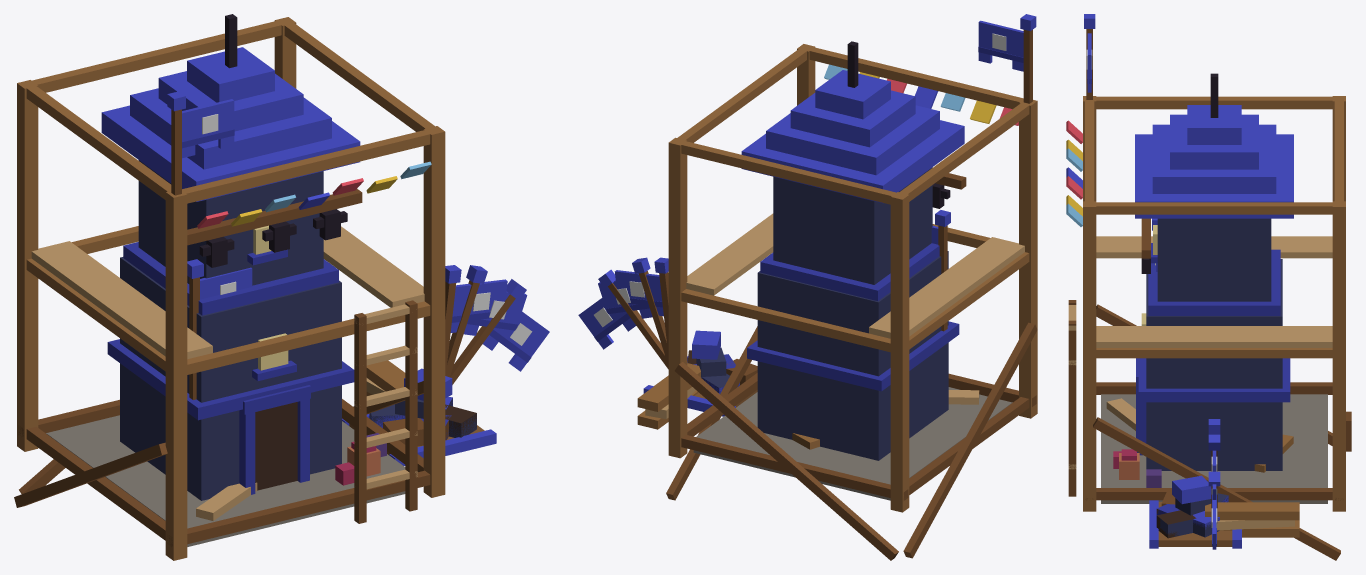
File: bat-home.glb
3 renders of one model, left to right at view 1: azimuth 30°, elevation 25°; view 2: azimuth 150°, elevation 25°; view 3: azimuth 270°, elevation 25°, orthographic. The views are drawn at different scales.
Parts seen in each view (by area): view 1: scaffold-mesh, built-mesh, dismantle-25-mesh, dismantle-75-mesh, scaffold-banner, dismantle-25-banner, dismantle-50-mesh, dismantle-75-banner, dismantle-50-banner, dismantle-25-flag-pole, scaffold-flag-pole, dismantle-50-flag-pole (+3 smaller); view 2: scaffold-mesh, built-mesh, dismantle-25-mesh, dismantle-75-mesh, scaffold-banner, dismantle-25-banner, dismantle-75-banner, dismantle-50-banner, dismantle-25-flag-pole, scaffold-flag-pole, dismantle-50-flag-pole, flag-pole (+2 smaller); view 3: built-mesh, scaffold-mesh, dismantle-25-mesh, dismantle-75-mesh, dismantle-50-mesh, scaffold-flag-pole.
Boxes of the visible parts, left/top/right/bottom form: scaffold-mesh: left=14, top=17, right=445, bottom=560; built-mesh: left=46, top=14, right=405, bottom=546; dismantle-25-mesh: left=46, top=368, right=496, bottom=528; dismantle-75-mesh: left=108, top=181, right=496, bottom=482; scaffold-banner: left=182, top=99, right=234, bottom=158; dismantle-25-banner: left=483, top=305, right=549, bottom=371; dismantle-50-mesh: left=196, top=351, right=496, bottom=520; dismantle-75-banner: left=450, top=279, right=507, bottom=332; dismantle-50-banner: left=464, top=288, right=527, bottom=340; dismantle-25-flag-pole: left=450, top=279, right=526, bottom=384; scaffold-flag-pole: left=167, top=91, right=185, bottom=195; dismantle-50-flag-pole: left=445, top=265, right=487, bottom=377; scaffold-mesh: left=637, top=44, right=1037, bottom=560; built-mesh: left=693, top=41, right=1011, bottom=500; dismantle-25-mesh: left=644, top=330, right=1011, bottom=484; dismantle-75-mesh: left=643, top=183, right=958, bottom=416; scaffold-banner: left=978, top=20, right=1023, bottom=71; dismantle-25-banner: left=578, top=298, right=636, bottom=349; dismantle-75-banner: left=614, top=270, right=663, bottom=316; dismantle-50-banner: left=598, top=278, right=652, bottom=322; dismantle-25-flag-pole: left=598, top=269, right=668, bottom=369; scaffold-flag-pole: left=1020, top=14, right=1036, bottom=103; dismantle-50-flag-pole: left=632, top=257, right=668, bottom=364; flag-pole: left=935, top=210, right=950, bottom=331; built-mesh: left=1101, top=73, right=1327, bottom=503; scaffold-mesh: left=1066, top=96, right=1351, bottom=560; dismantle-25-mesh: left=1101, top=394, right=1327, bottom=545; dismantle-75-mesh: left=1113, top=243, right=1289, bottom=548; dismantle-50-mesh: left=1106, top=388, right=1241, bottom=545; scaffold-flag-pole: left=1084, top=14, right=1095, bottom=99.
Bounding box in the file's own units: 2.35 × 2.53 × 1.51.
